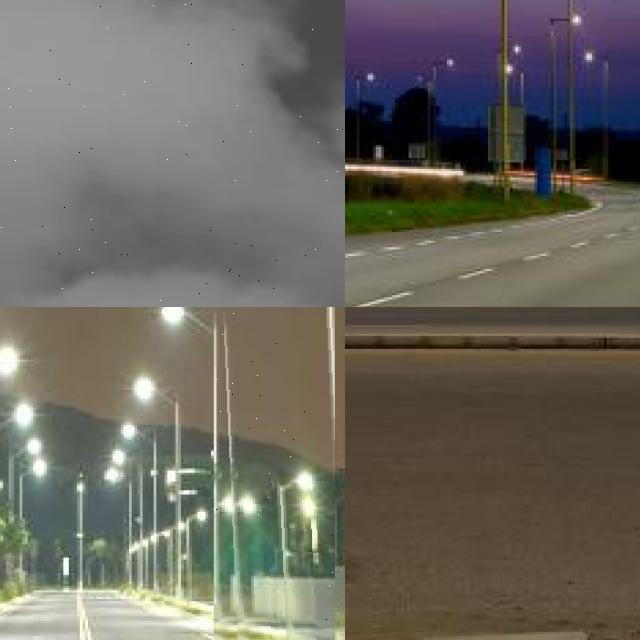street light: (0, 0, 345, 307), (214, 307, 335, 640), (164, 307, 230, 618), (501, 0, 566, 207), (137, 377, 184, 599), (567, 0, 615, 203), (123, 425, 162, 590), (0, 405, 29, 595), (551, 14, 580, 185), (0, 346, 18, 613), (112, 447, 146, 585), (12, 440, 42, 585), (20, 460, 47, 588), (107, 469, 136, 588), (496, 42, 521, 176), (584, 53, 608, 180), (433, 58, 454, 170), (507, 62, 526, 166), (356, 73, 374, 165), (417, 78, 433, 162), (77, 484, 87, 594)
